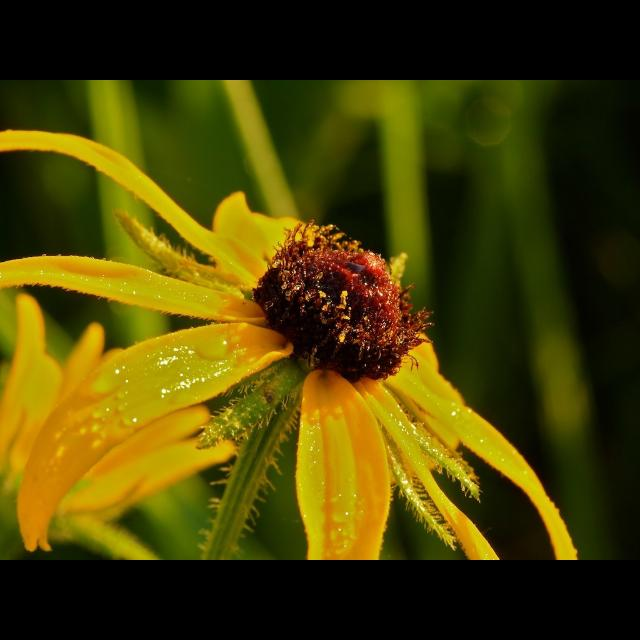Flower: (1, 126, 576, 560), (0, 294, 234, 560)
